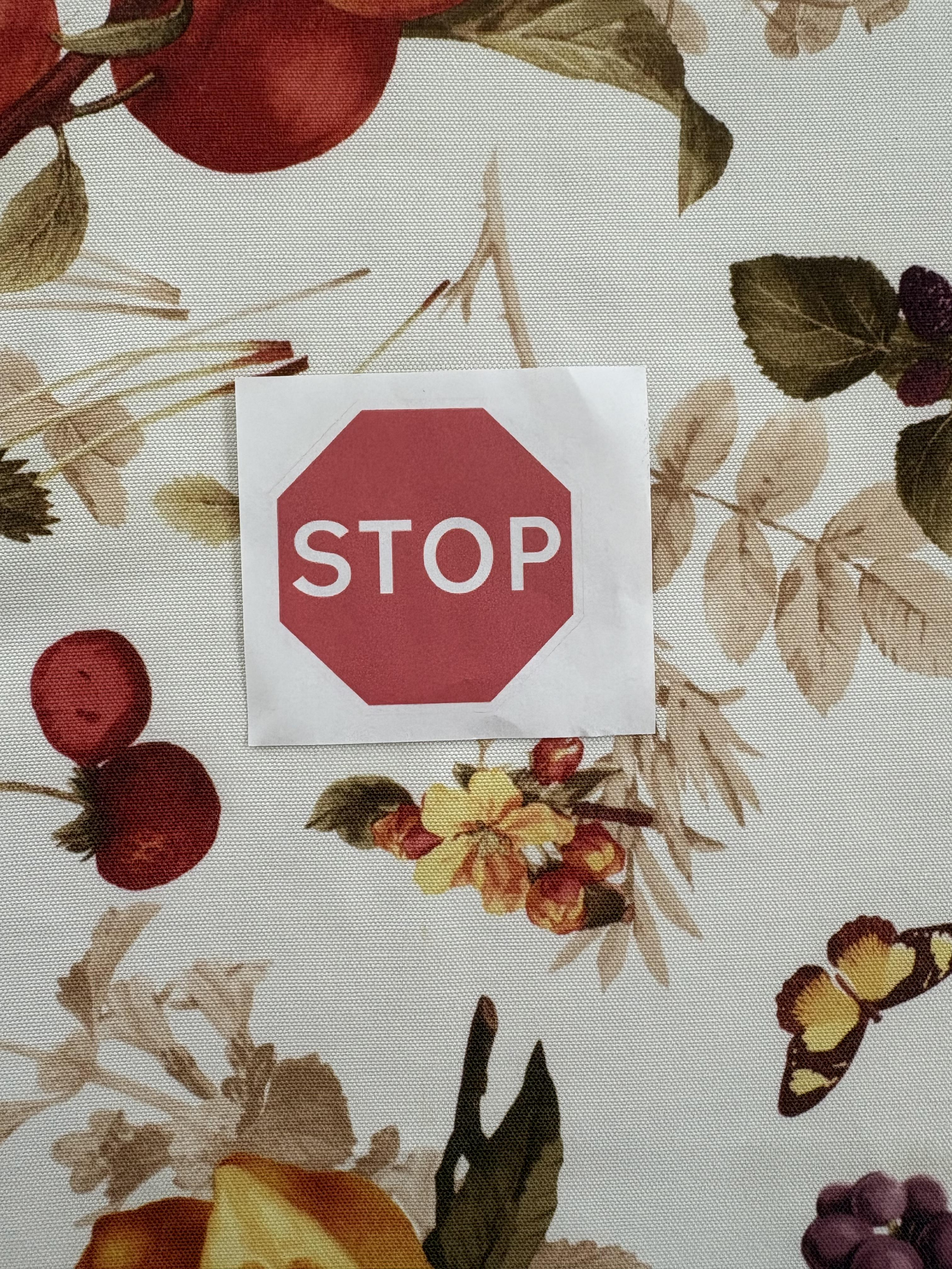Stop: (239, 384, 651, 732)
